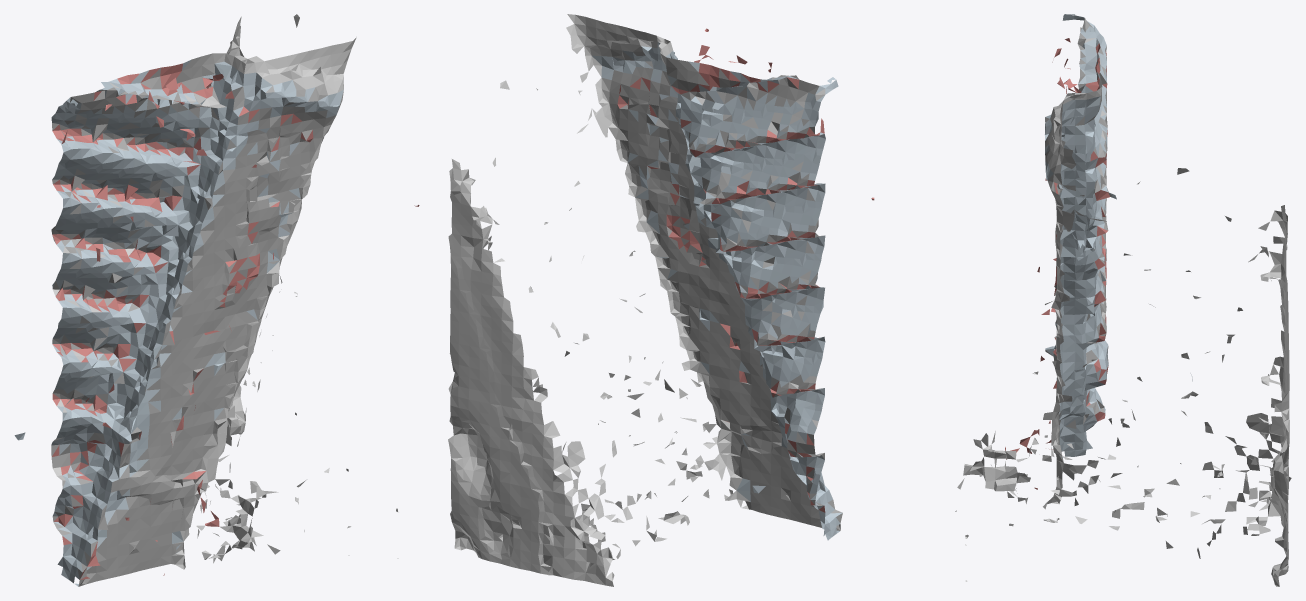
The model's file is B173-뜬면-1__nojudge_ALS_s0__before.glb.
The picture shows the model from 3 angles, left to right: view 1: azimuth 30°, elevation 25°; view 2: azimuth 150°, elevation 25°; view 3: azimuth 270°, elevation 25°; orthographic projection. The views are drawn at different scales.
Bounding box in the file's own units: 21.7 × 34.43 × 29.3.
